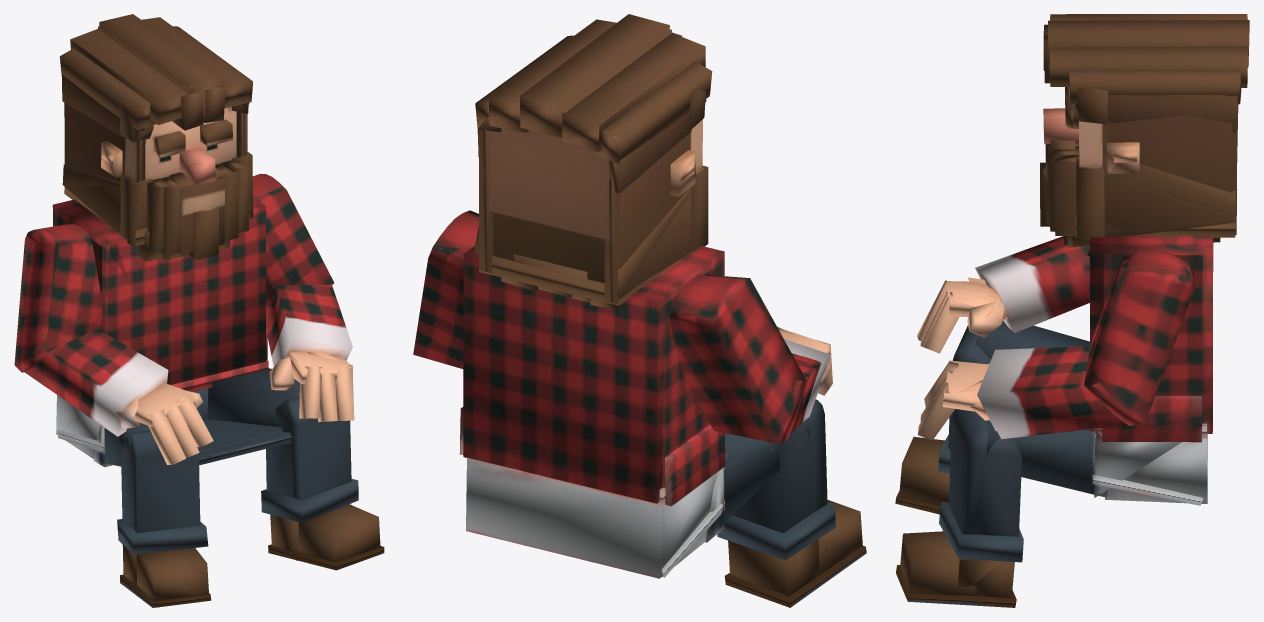
Rendered from pax_m3.glb.
3 renders of one model, left to right at view 1: azimuth 30°, elevation 25°; view 2: azimuth 150°, elevation 25°; view 3: azimuth 270°, elevation 25°, orthographic. The views are drawn at different scales.
Parts seen in each view (by area): view 1: geometry_0; view 2: geometry_0; view 3: geometry_0.
Boxes of the visible parts, <box> form: geometry_0: <box>14,14,384,607</box>; geometry_0: <box>413,14,866,607</box>; geometry_0: <box>895,14,1249,607</box>.
Size of the model in its own units: 0.6689 by 0.9996 by 0.6125.
1 material, 1 textured.
